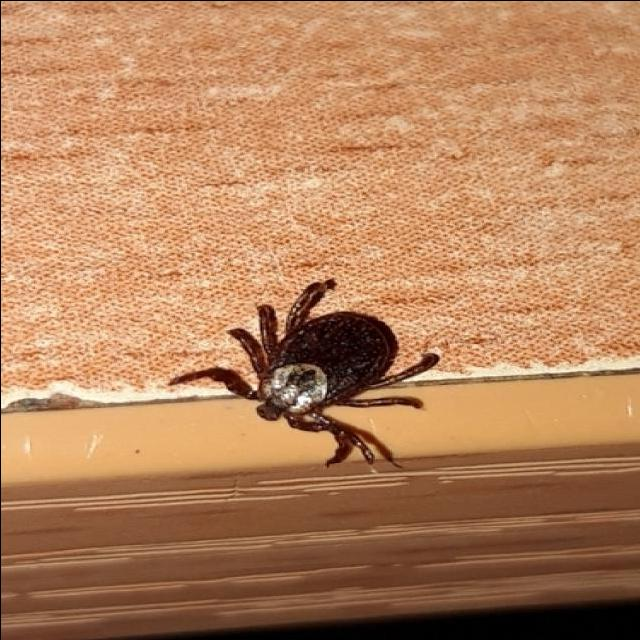Dermacentor Reticulatus-F: (169, 279, 439, 464)
